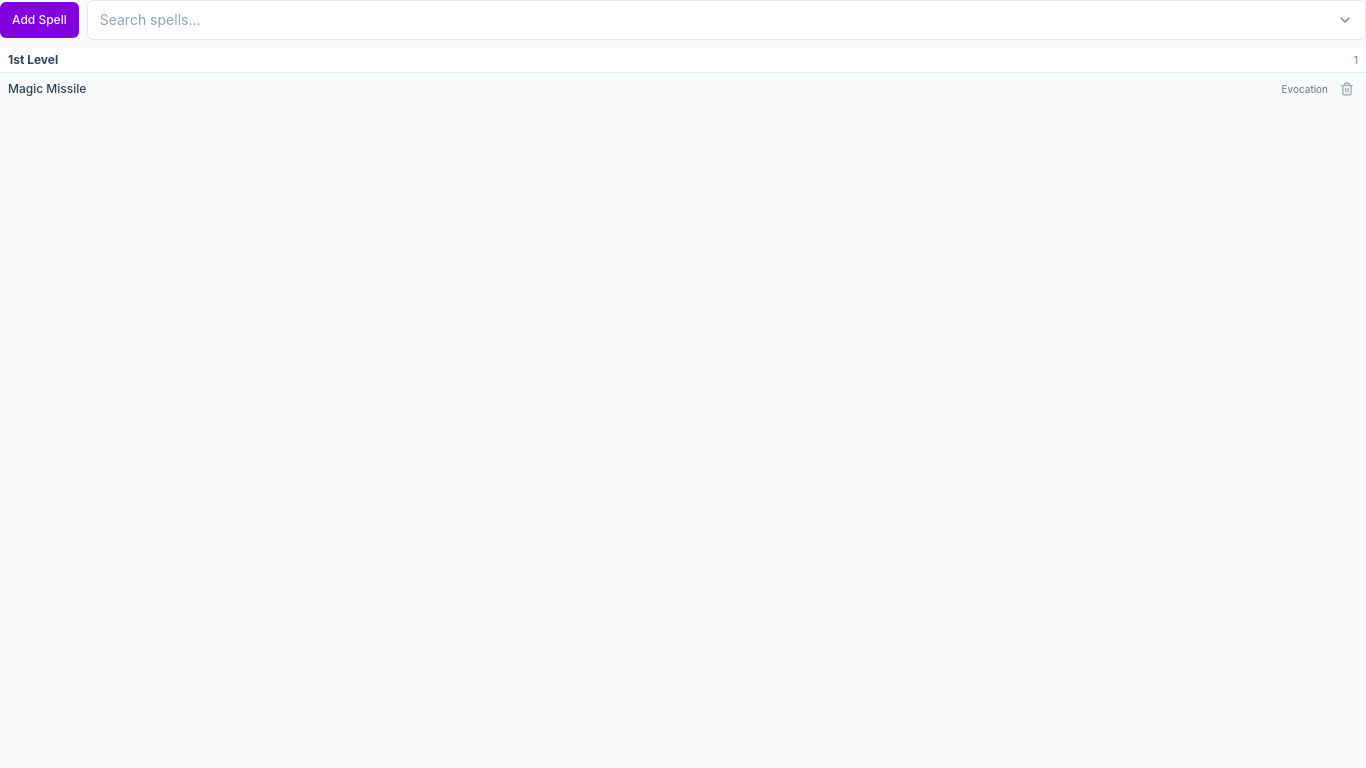
it: WizardSpellbookManager › clicking Remove opens confirmation dialog with correct spell name
Click the button named "Remove Magic Missile" at x=1347, y=89, box [1336,78,1358,100]
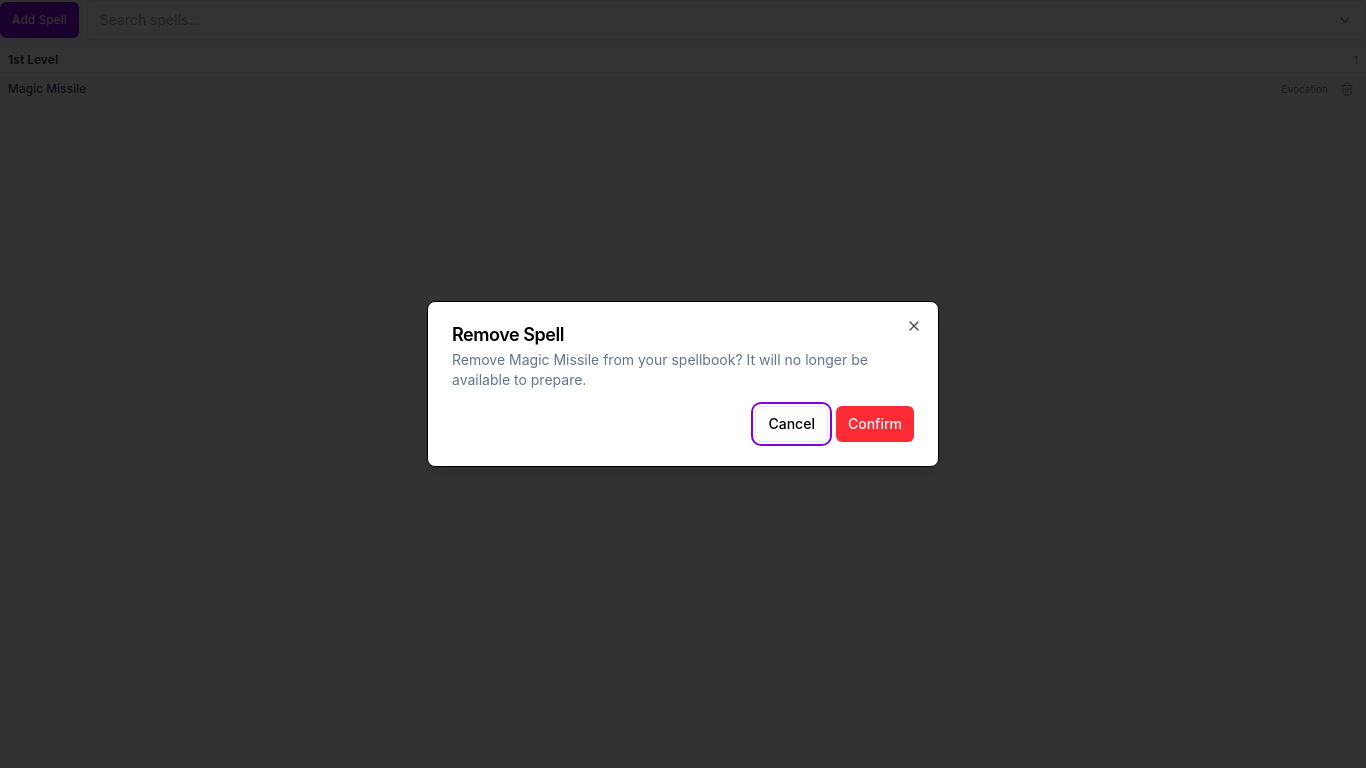
Result: the text "Remove Magic Missile from your spellbook" is shown at [452,350,914,390]
